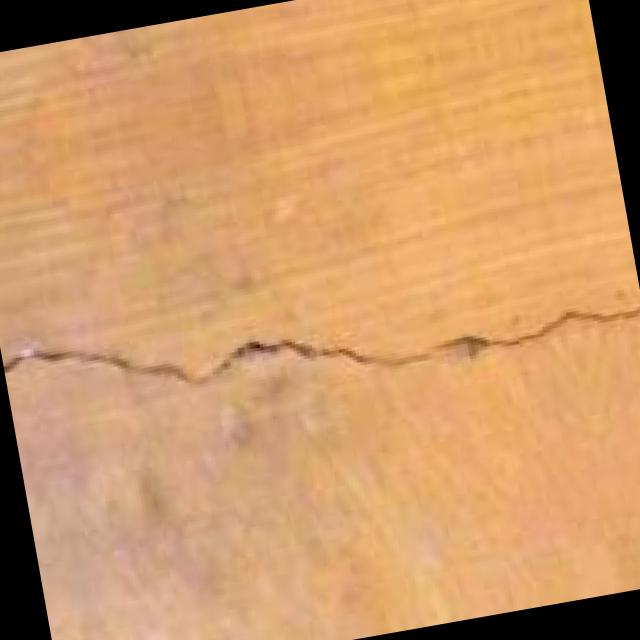crack: (2, 176, 640, 575)
